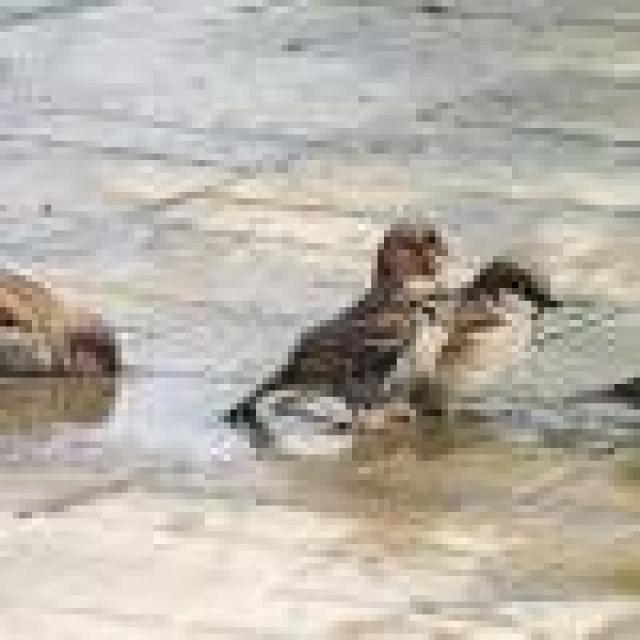bird: (182, 192, 464, 595), (394, 214, 598, 483)
